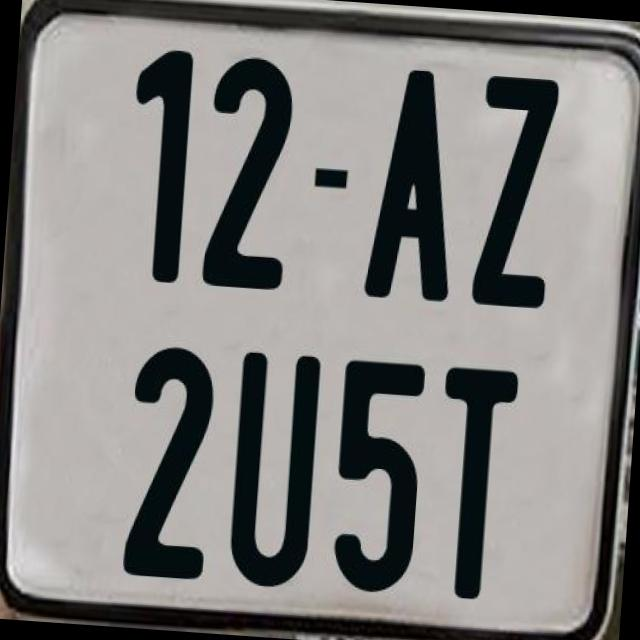1: (121, 43, 199, 288)
2: (197, 54, 296, 298), (120, 344, 220, 582)
5: (326, 358, 425, 598)
A: (359, 67, 467, 310)
T: (428, 361, 520, 604)
U: (226, 352, 328, 590)
Z: (466, 75, 558, 313)
